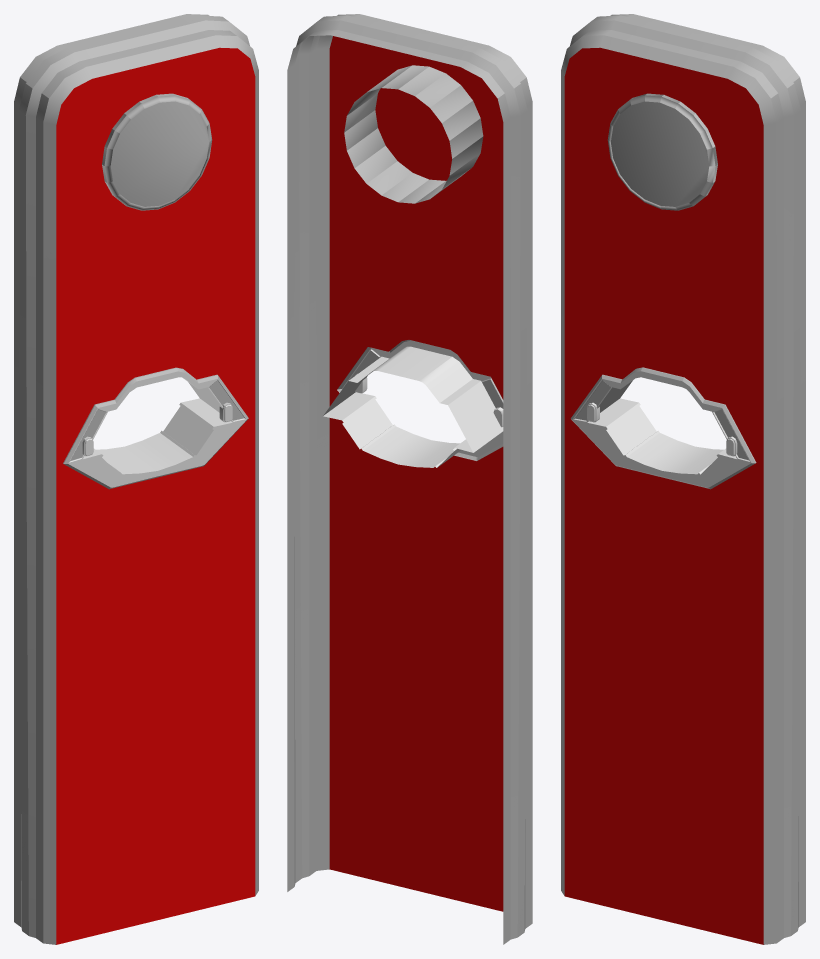
Rendered from exit .fbx.
The picture shows the model from 3 angles, left to right: view 1: azimuth 30°, elevation 25°; view 2: azimuth 150°, elevation 25°; view 3: azimuth 330°, elevation 25°; orthographic projection.
Visible parts, largest first — view 1: pCube3; view 2: pCube3; view 3: pCube3.
Part boxes in pixels (x1,y1,x2,y2): pCube3: [14, 14, 258, 944]; pCube3: [287, 14, 532, 944]; pCube3: [561, 14, 805, 944].
Size of the model in its own units: 4.23 by 15.47 by 1.22.
